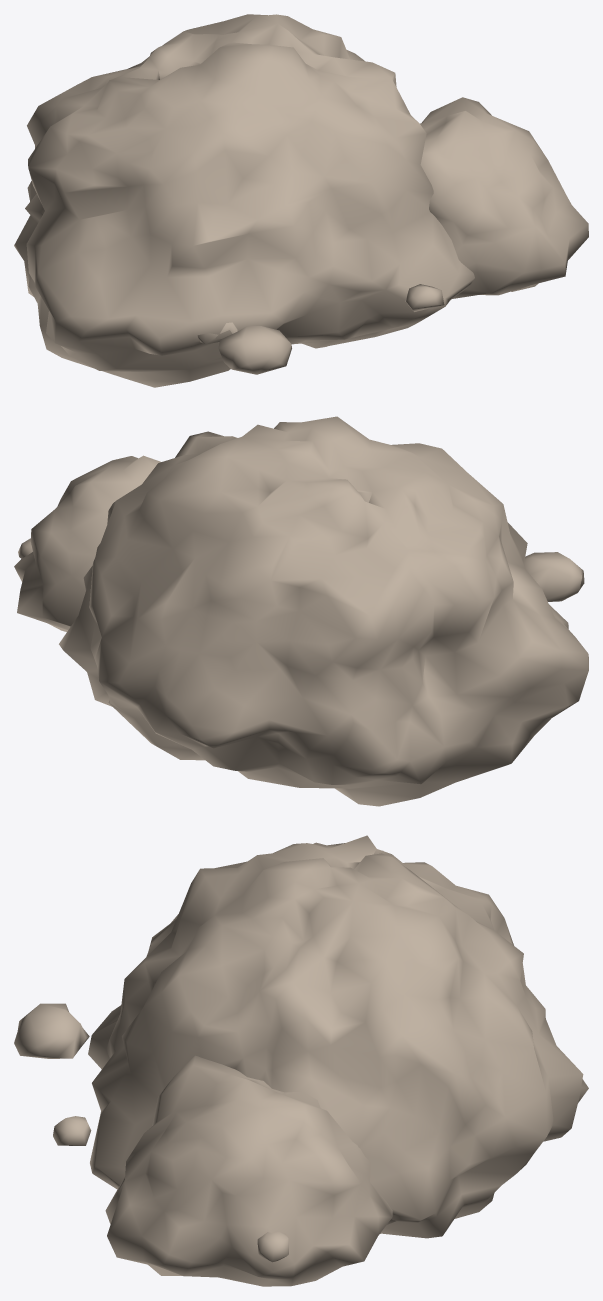
Rendered from rock_b.glb.
3 renders of one model, top to bottom at view 1: azimuth 30°, elevation 25°; view 2: azimuth 150°, elevation 25°; view 3: azimuth 270°, elevation 25°, orthographic. The views are drawn at different scales.
Parts seen in each view (by area): view 1: Rock; view 2: Rock; view 3: Rock.
Boxes of the visible parts, x1,y1,x2,y2 form: Rock: [14, 14, 588, 387]; Rock: [14, 416, 588, 806]; Rock: [14, 835, 588, 1286].
Size of the model in its own units: 2.76 by 1.58 by 2.3.
